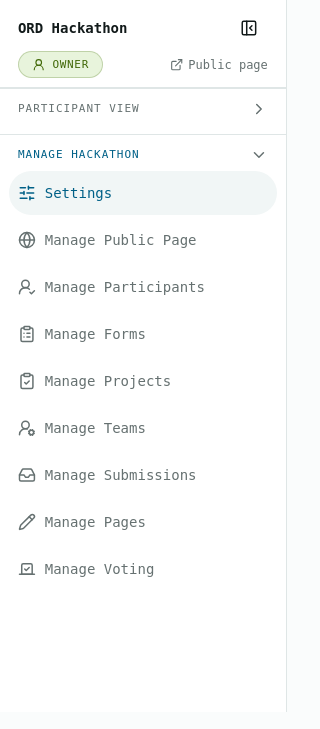
Test: HackathonSidebar's Manage section › closes again from the chevron while inside the section
Click the button with aria-label "Hide Manage Hackathon" at {"x": 79, "y": 154}, box [9,144,277,168]
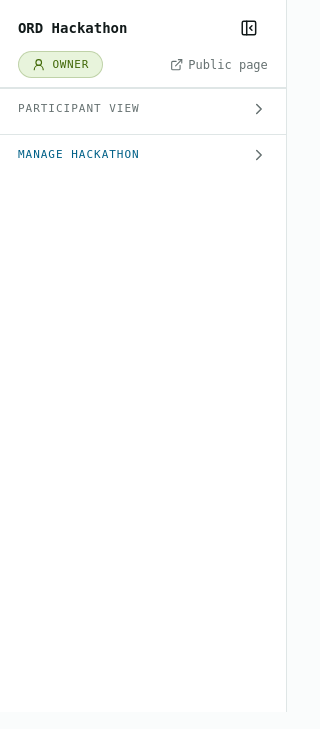
Result: the link "Manage Teams" is gone
